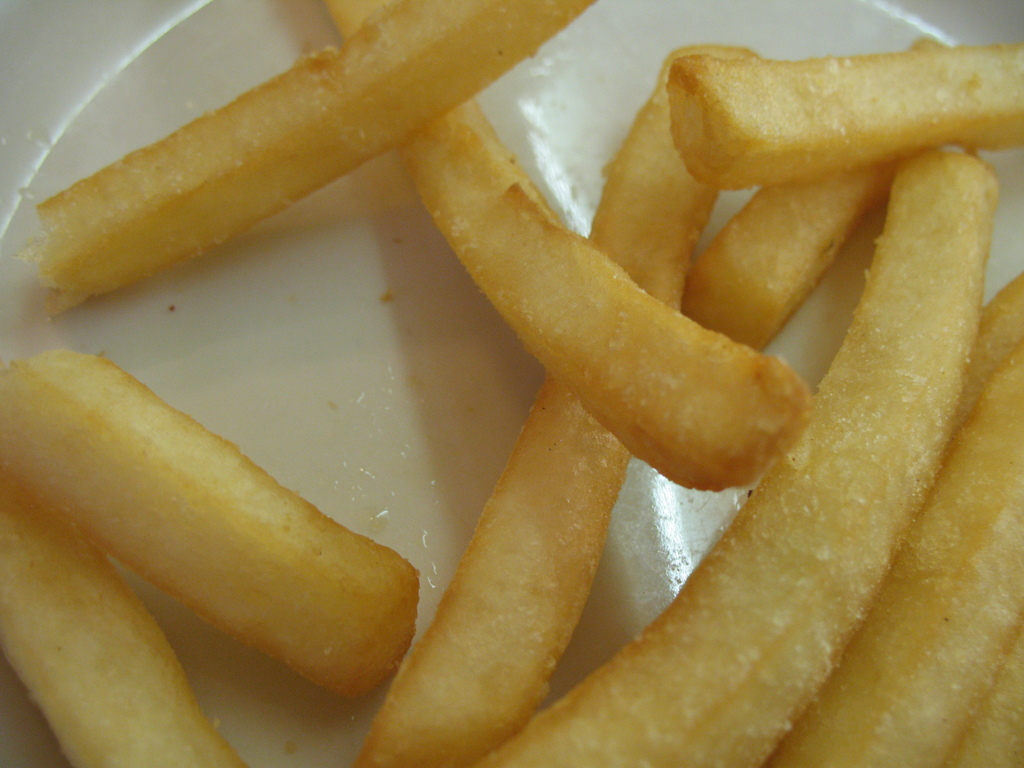French fries: (0, 1, 1023, 768)
